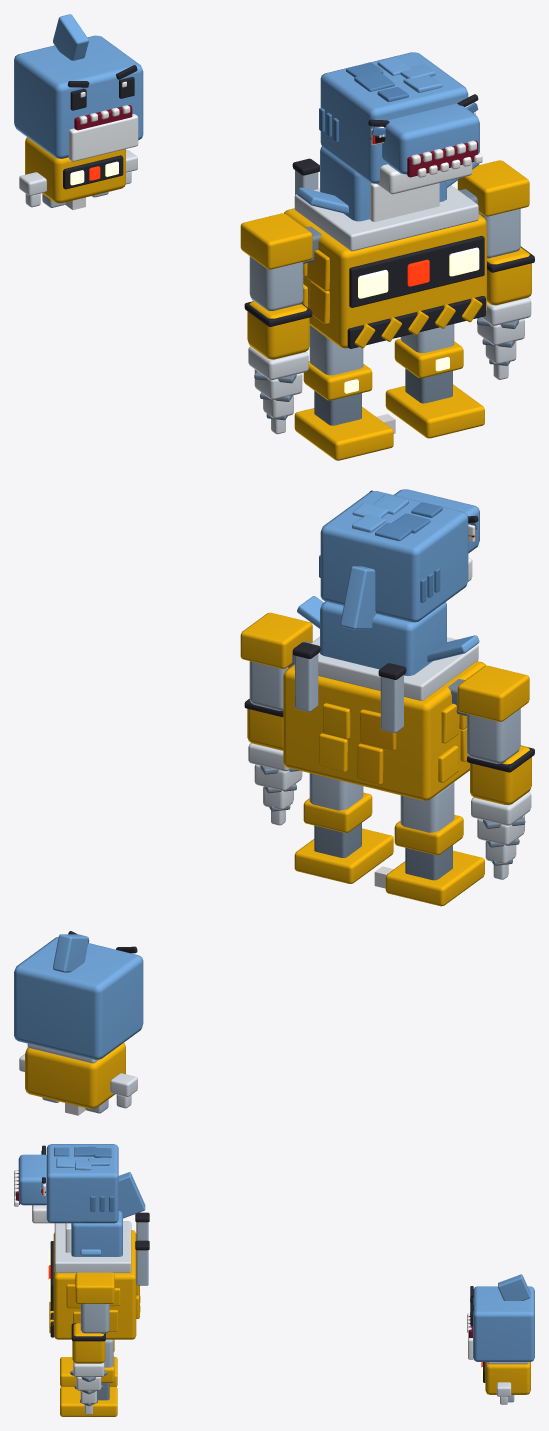
File: Restyle_B08.fbx
The picture shows the model from 3 angles, top to bottom: view 1: azimuth 30°, elevation 25°; view 2: azimuth 150°, elevation 25°; view 3: azimuth 270°, elevation 25°; orthographic projection. The views are drawn at different scales.
Visible parts, largest first — view 1: B08__Head, P08__Head, B08__Body, B08__Body_Dark, B08__LeftLeg_Mech, B08__RightLeg_Mech, B08__Body_Chrome, B08__RightUpperArm_Mech, B08__Body_Shark, B08__LeftUpperArm_Mech, B08__RightHand, P08__Body (+23 smaller); view 2: B08__Body, B08__Head, P08__Head, B08__Body_Shark, B08__RightLeg_Mech, B08__LeftLeg_Mech, P08__Body, B08__Body_Chrome, B08__RightUpperArm_Mech, B08__LeftUpperArm_Mech, B08__RightHand, B08__Body_Metal (+12 smaller); view 3: B08__Head, P08__Head, B08__Body, B08__Body_Shark, B08__Body_Chrome, B08__LeftLeg_Mech, B08__LeftUpperArm_Mech, P08__Body, B08__LeftHand, B08__LeftLowerArm, B08__LeftUpperArm, B08__Head_SharkDark (+5 smaller).
Boxes of the visible parts, <box> form: B08__Head: <box>320,52,479,183</box>; P08__Head: <box>14,14,143,158</box>; B08__Body: <box>284,208,486,348</box>; B08__Body_Dark: <box>292,158,485,348</box>; B08__LeftLeg_Mech: <box>385,338,484,438</box>; B08__RightLeg_Mech: <box>294,361,393,460</box>; B08__Body_Chrome: <box>294,185,478,251</box>; B08__RightUpperArm_Mech: <box>240,213,312,269</box>; B08__Body_Shark: <box>297,146,479,221</box>; B08__LeftUpperArm_Mech: <box>457,160,529,216</box>; B08__RightHand: <box>248,346,308,434</box>; P08__Body: <box>25,137,125,203</box>; B08__Body: <box>283,661,486,800</box>; B08__Head: <box>320,489,479,622</box>; P08__Head: <box>14,934,143,1059</box>; B08__Body_Shark: <box>297,566,479,675</box>; B08__RightLeg_Mech: <box>385,815,484,906</box>; B08__LeftLeg_Mech: <box>294,792,393,883</box>; P08__Body: <box>25,1043,125,1108</box>; B08__Body_Chrome: <box>294,637,478,700</box>; B08__RightUpperArm_Mech: <box>457,665,529,721</box>; B08__LeftUpperArm_Mech: <box>240,612,312,668</box>; B08__RightHand: <box>471,792,531,879</box>; B08__Body_Metal: <box>295,654,403,732</box>; B08__Head: <box>18,1144,118,1223</box>; P08__Head: <box>473,1274,534,1361</box>; B08__Body: <box>49,1230,140,1339</box>; B08__Body_Shark: <box>71,1172,145,1256</box>; B08__Body_Chrome: <box>54,1221,131,1273</box>; B08__LeftLeg_Mech: <box>60,1356,117,1416</box>; B08__LeftUpperArm_Mech: <box>75,1272,114,1303</box>; P08__Body: <box>485,1362,530,1394</box>; B08__LeftHand: <box>73,1362,104,1414</box>; B08__LeftLowerArm: <box>72,1323,105,1363</box>; B08__LeftUpperArm: <box>80,1304,109,1333</box>; B08__Head_SharkDark: <box>54,1146,114,1211</box>.
Size of the model in its own units: 2018 by 2589 by 5045.
